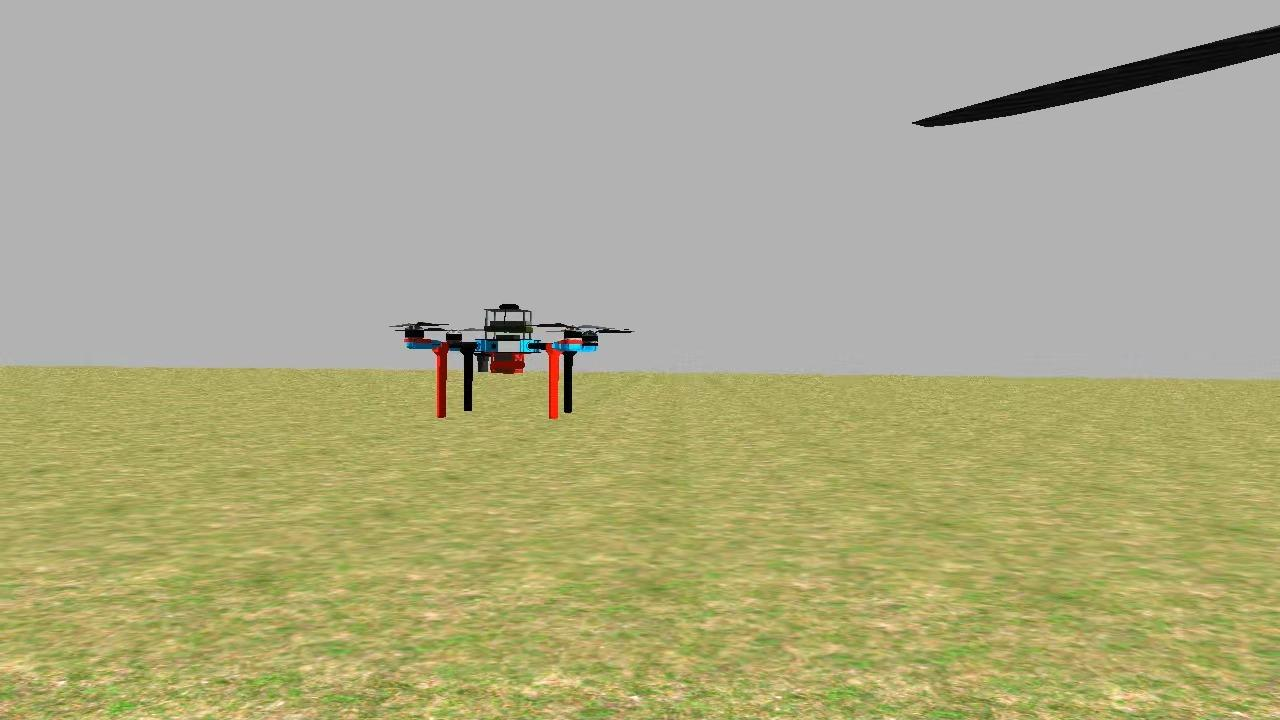UAV: (392, 300, 608, 423)
